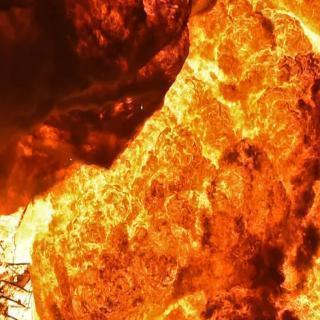fire: (37, 17, 312, 320), (0, 198, 109, 320)
